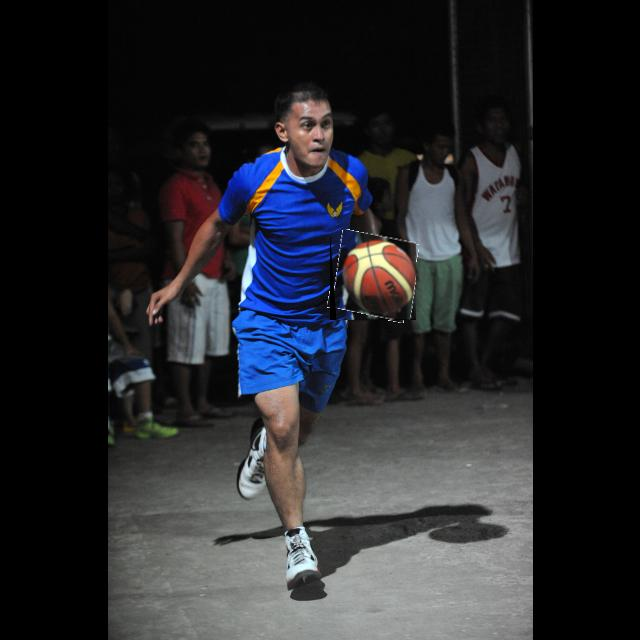Football: (330, 232, 416, 320)
